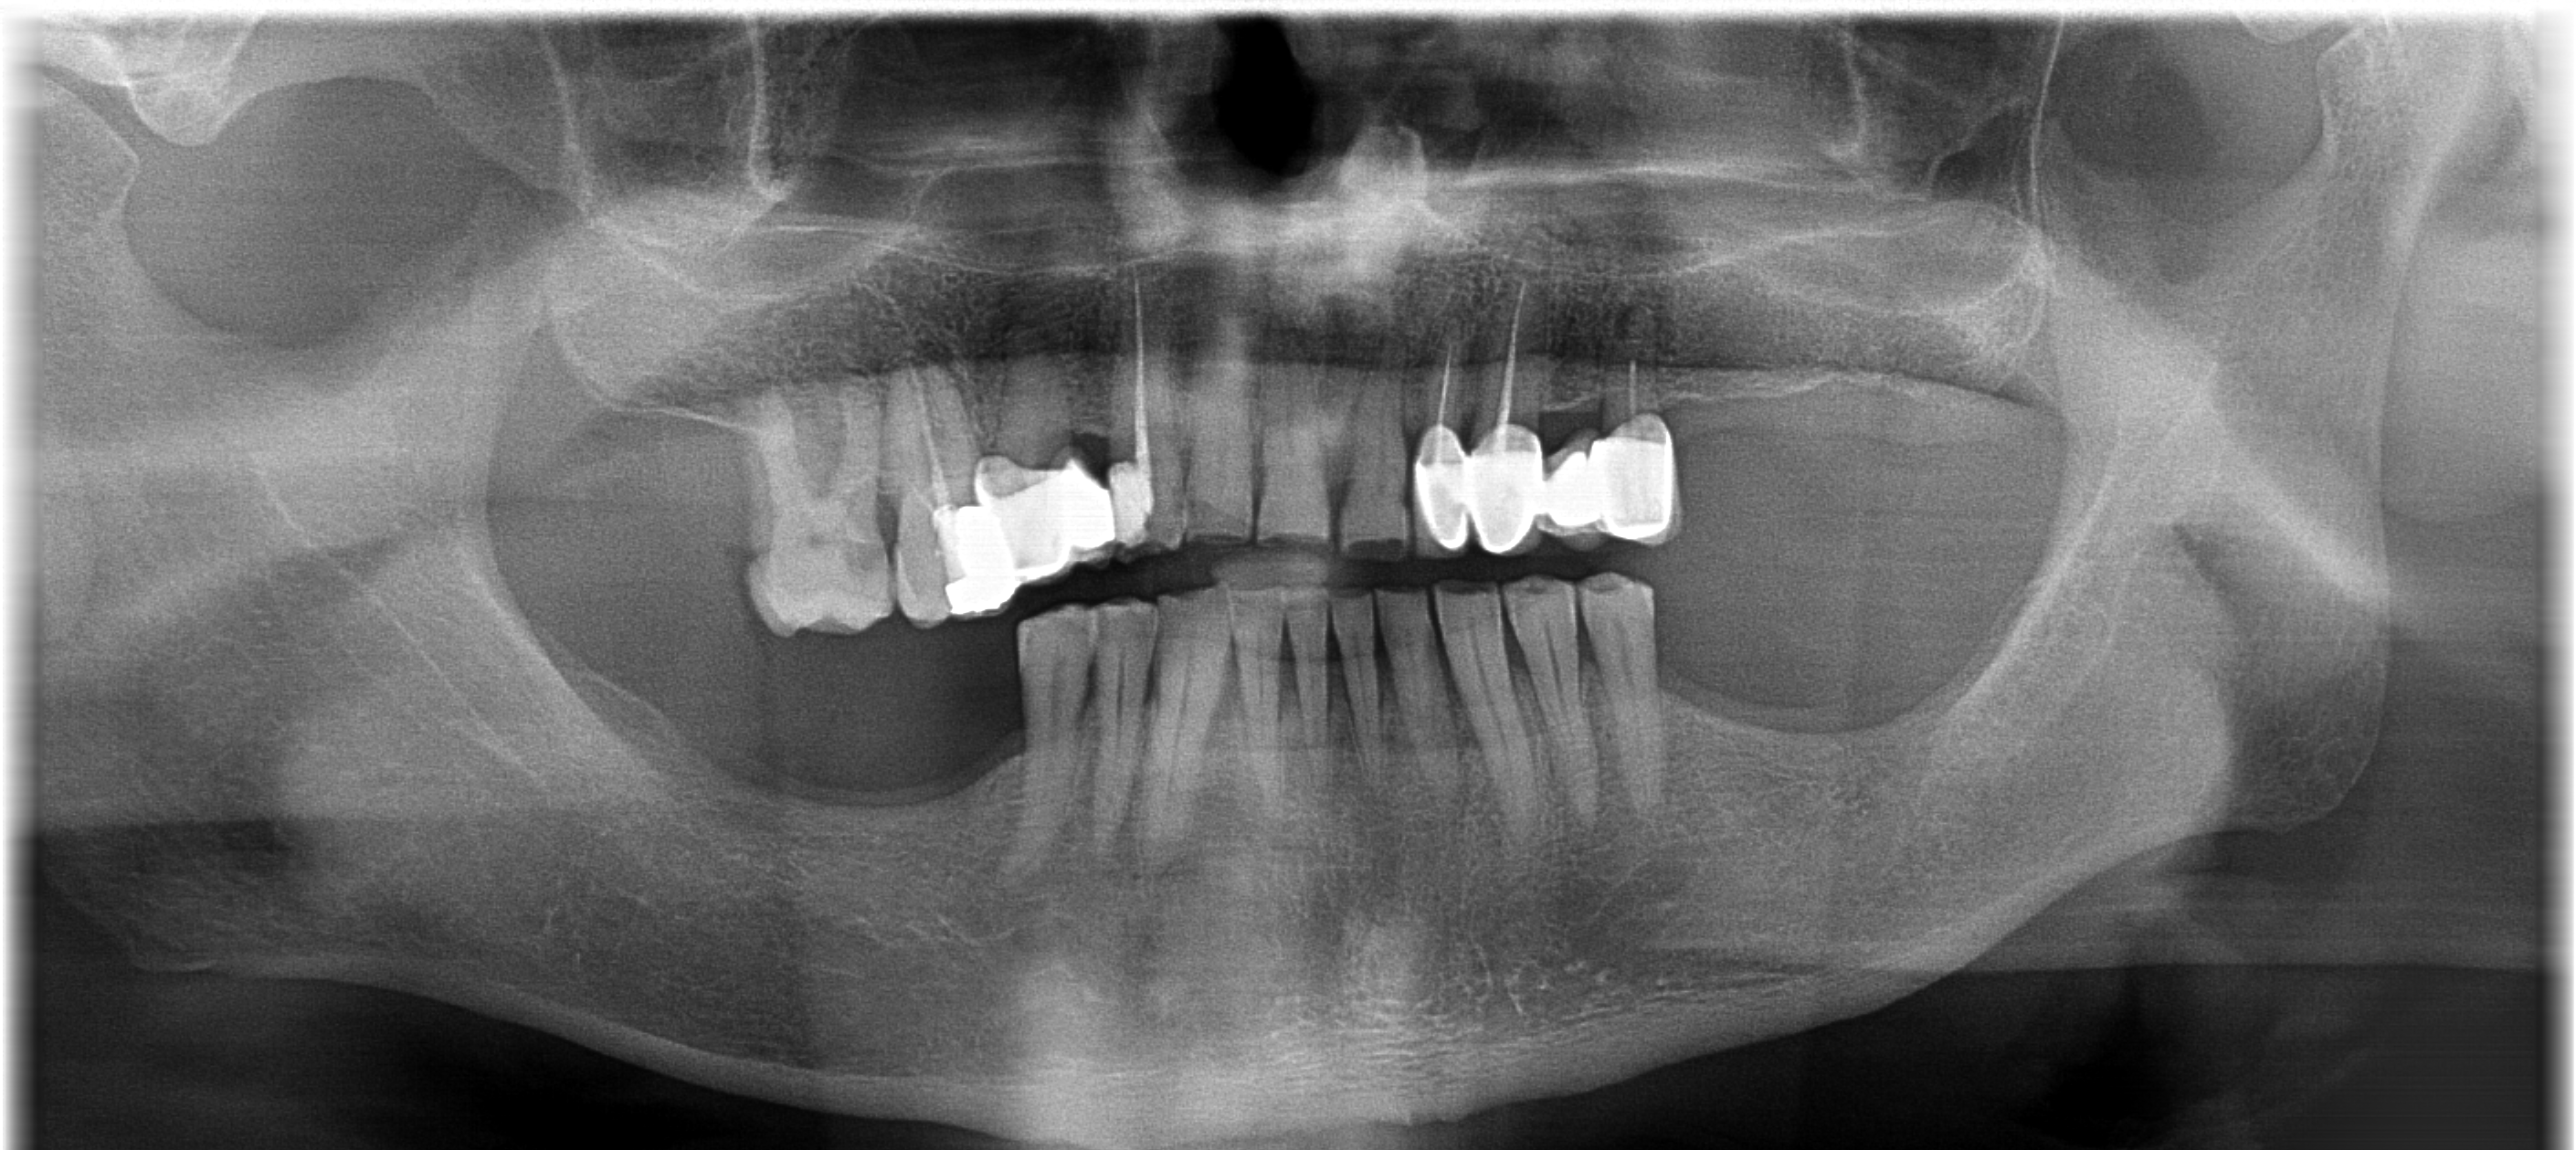tratamiento_conducto: (876, 315, 1025, 628), (1091, 251, 1204, 570), (1579, 307, 1692, 565)
zona_dentula: (749, 616, 1063, 861), (1635, 552, 1865, 813)
